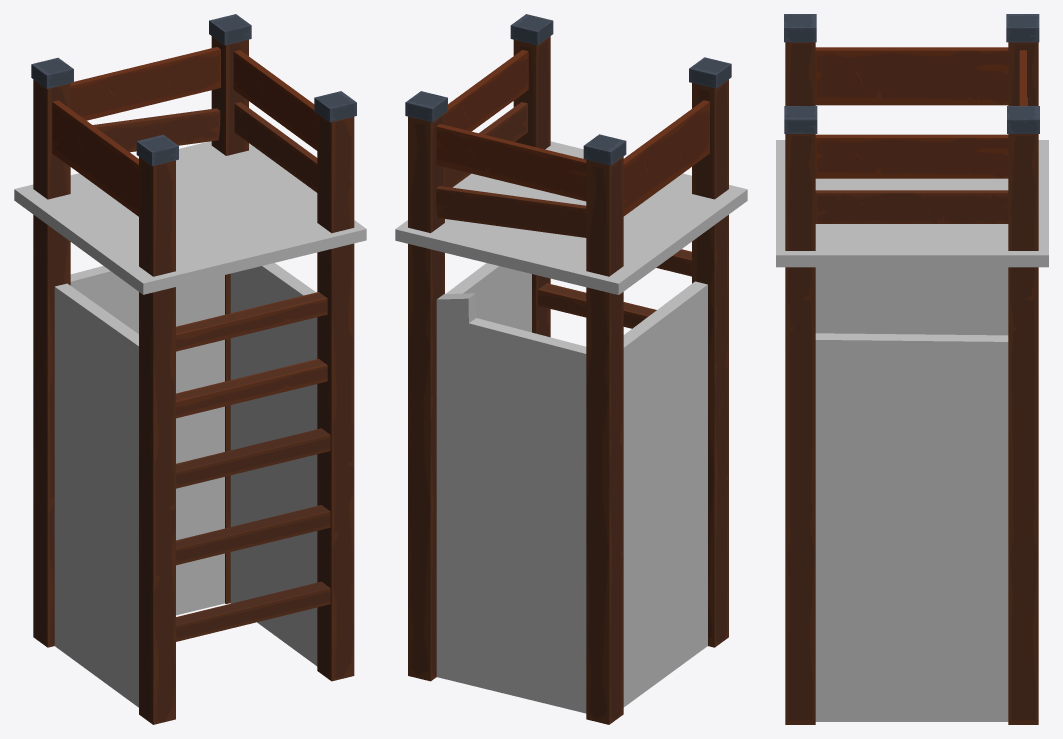
Rendered from Tower1.fbx.
3 views of the same model, side by side, from view 1: azimuth 30°, elevation 25°; view 2: azimuth 150°, elevation 25°; view 3: azimuth 270°, elevation 25° (orthographic). The views are drawn at different scales.
Visible parts, largest first — view 1: Tower1, WallLeft, WallRight, WallFront; view 2: Tower1, WallFront, WallLeft, WallRight; view 3: Tower1, WallRight, WallLeft.
Part boxes in pixels (box(x1,y1,x2,y2)): Tower1: box(14, 14, 366, 724); WallLeft: box(54, 283, 138, 707); WallRight: box(230, 263, 317, 666); WallFront: box(70, 266, 224, 615); Tower1: box(395, 14, 747, 724); WallFront: box(436, 293, 586, 713); WallLeft: box(623, 281, 707, 707); WallRight: box(446, 263, 531, 332); Tower1: box(776, 14, 1048, 724); WallRight: box(815, 333, 1008, 721); WallLeft: box(815, 267, 1008, 335).
Bounding box in the file's own units: 237 × 580 × 237.
